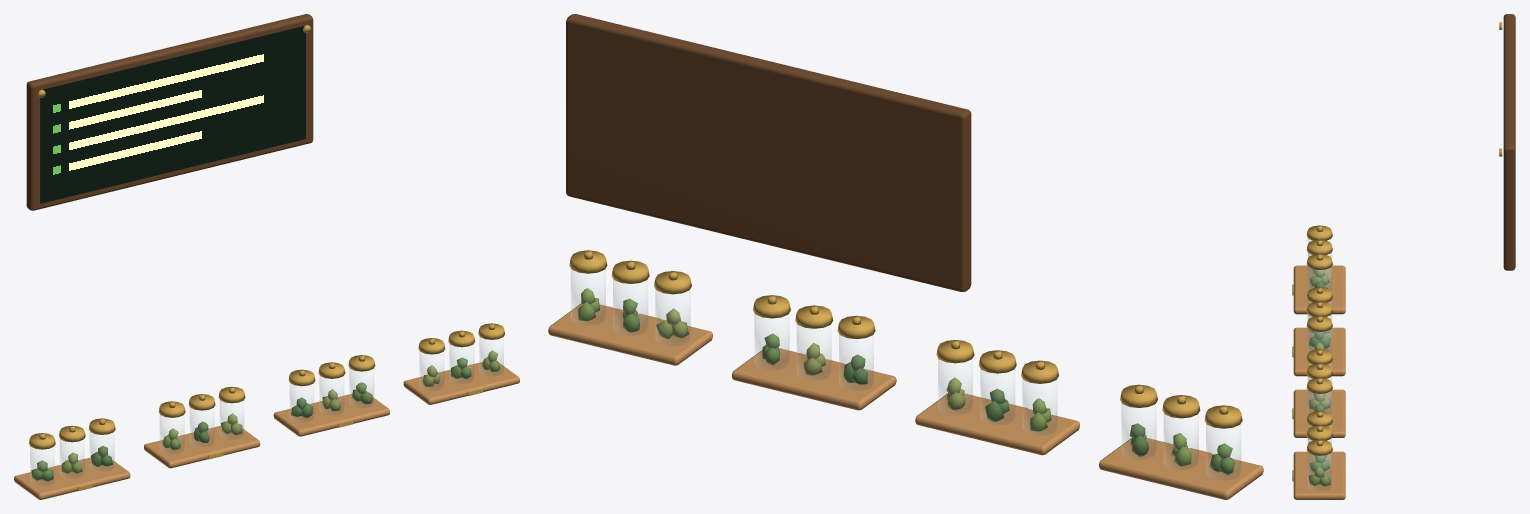
File: rooftop_jar_flight.glb
3 renders of one model, left to right at view 1: azimuth 30°, elevation 25°; view 2: azimuth 150°, elevation 25°; view 3: azimuth 270°, elevation 25°, orthographic. The views are drawn at different scales.
Parts seen in each view (by area): view 1: MenuFace, MenuFrame, Board1, Board3, Board2, Board0, Jar1, Jar4, Jar8, Jar9, Jar10, Jar0 (+6 smaller); view 2: MenuFrame, Board2, Board1, Board0, Board3, Jar9, Jar2, Jar3, Jar8, Jar1, Jar5, Jar7 (+5 smaller); view 3: MenuFrame, Board3, Board0, Board1, Board2, Jar11, Jar2, Jar5, Jar8, Jar10, Jar1, Jar4 (+14 smaller).
Boxes of the visible parts, x1,y1,x2,y2 form: MenuFace: (40,26,305,203); MenuFrame: (26,14,313,210); Board1: (144,425,260,468); Board3: (403,362,519,404); Board2: (273,394,389,436); Board0: (14,457,130,499); Jar1: (60,439,84,478); Jar4: (190,407,214,446); Jar8: (349,369,373,407); Jar9: (419,352,443,390); Jar10: (449,344,473,383); Jar0: (30,447,54,485); MenuFrame: (566,14,971,291); Board2: (732,348,896,410); Board1: (915,393,1079,455); Board0: (1099,438,1263,499); Board3: (548,303,712,365); Jar9: (655,290,690,345); Jar2: (1121,403,1156,459); Jar3: (1022,379,1057,435); Jar8: (754,314,789,369); Jar1: (1164,414,1198,469); Jar5: (938,359,972,414); Jar7: (797,324,831,380); MenuFrame: (1503,14,1515,270); Board3: (1293,451,1345,499); Board0: (1293,265,1345,314); Board1: (1293,327,1345,376); Board2: (1293,389,1345,437); Jar11: (1308,453,1331,491); Jar2: (1308,267,1331,302); Jar5: (1308,329,1331,364); Jar8: (1308,391,1331,426); Jar10: (1308,438,1331,474); Jar1: (1308,253,1331,288); Jar4: (1308,315,1331,350).
Size of the model in its own units: 1.61 by 1 by 0.661.
Materials: 10 (1 with a texture image).
